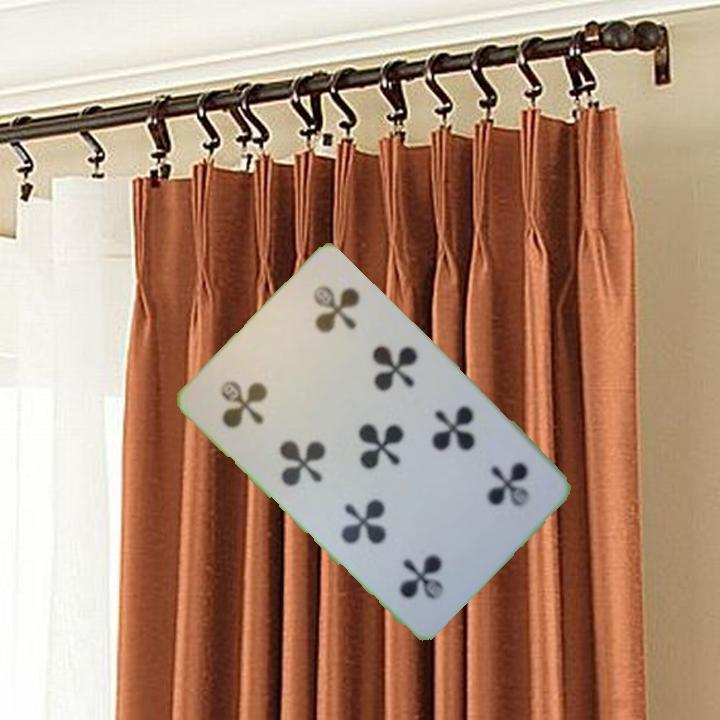c_9.png: (428, 427, 557, 556), (194, 330, 322, 459)
